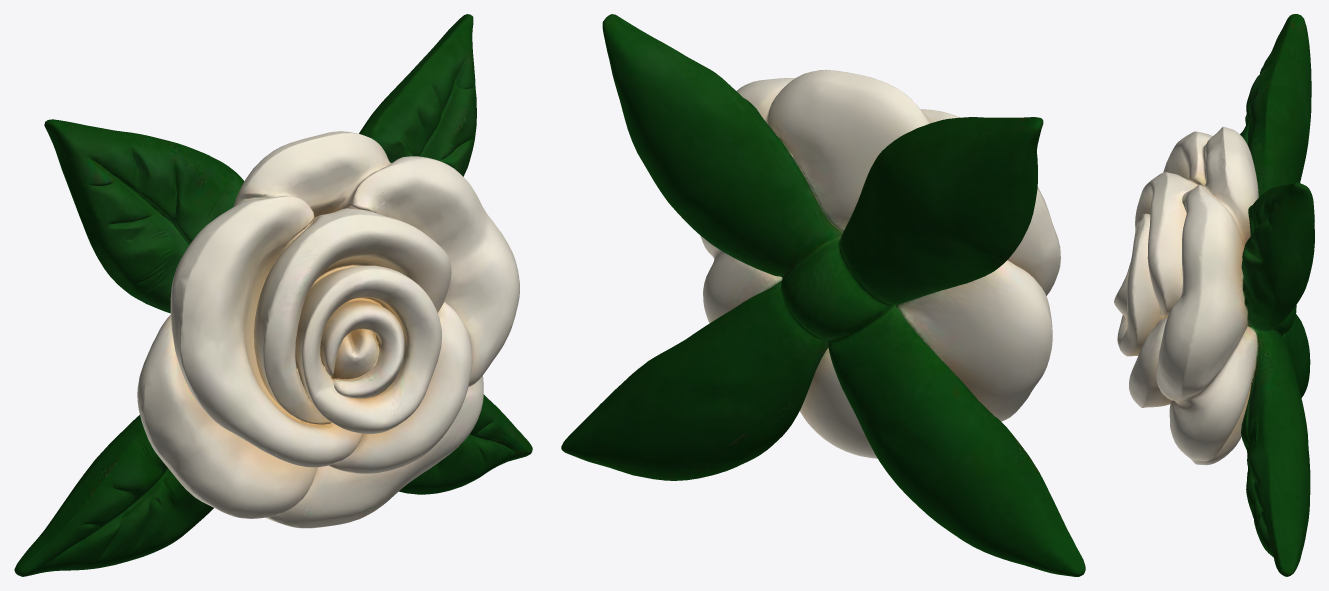
Rendered from white_rose_leaves.glb.
The picture shows the model from 3 angles, left to right: view 1: azimuth 30°, elevation 25°; view 2: azimuth 150°, elevation 25°; view 3: azimuth 270°, elevation 25°; orthographic projection. The views are drawn at different scales.
Visible parts, largest first — view 1: model; view 2: model; view 3: model.
Part boxes in pixels (left/top/right/bottom): model: left=14, top=14, right=532, bottom=576; model: left=561, top=14, right=1085, bottom=576; model: left=1114, top=14, right=1314, bottom=576.
Bounding box in the file's own units: 1.9 × 1.61 × 0.7691.
Materials: 1 (1 with a texture image).
